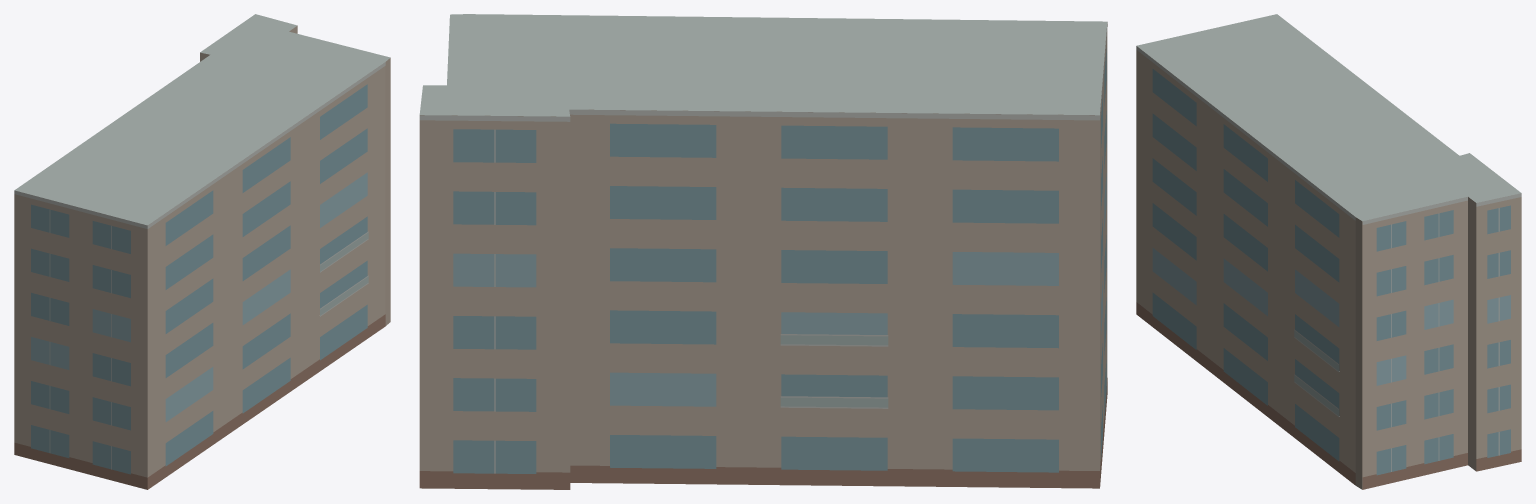
Rendered from survey-upis-32989332.glb.
3 renders of one model, left to right at view 1: azimuth 30°, elevation 25°; view 2: azimuth 150°, elevation 25°; view 3: azimuth 270°, elevation 25°, orthographic. The views are drawn at different scales.
Visible parts, largest first — view 1: survey-upis-32989332.tmp; view 2: survey-upis-32989332.tmp; view 3: survey-upis-32989332.tmp.
Boxes of the visible parts, x1,y1,x2,y2 form: survey-upis-32989332.tmp: [14, 14, 390, 489]; survey-upis-32989332.tmp: [419, 14, 1107, 489]; survey-upis-32989332.tmp: [1136, 14, 1521, 489].
Bounding box in the file's own units: 28.73 × 17.35 × 22.57.
